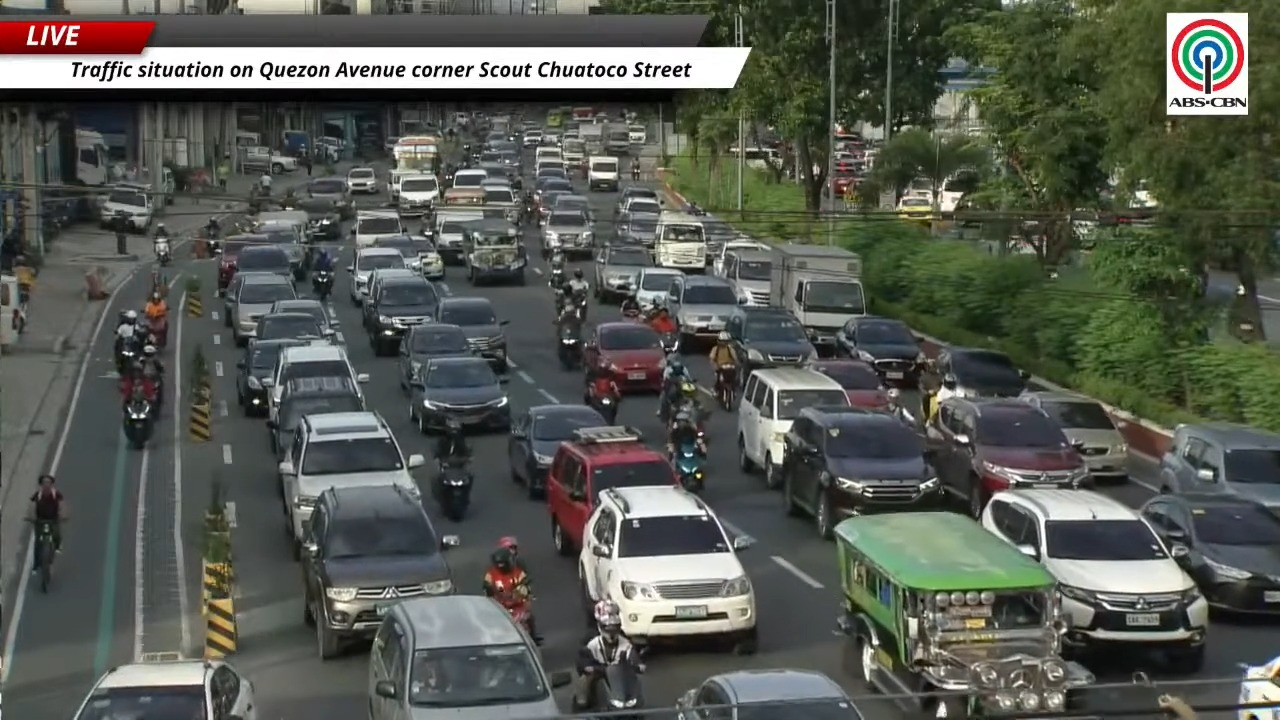car: (981, 488, 1208, 672), (579, 486, 756, 653), (302, 484, 458, 659), (367, 595, 572, 719), (780, 406, 943, 538), (277, 411, 424, 557), (927, 398, 1090, 517), (545, 426, 677, 555), (1140, 493, 1279, 614), (735, 367, 847, 488), (74, 659, 258, 719), (1160, 423, 1279, 508), (1020, 391, 1127, 480), (676, 669, 862, 719), (508, 404, 606, 498), (261, 341, 368, 418), (267, 378, 365, 461), (410, 357, 510, 433), (724, 307, 817, 381), (836, 316, 925, 386), (363, 275, 440, 355), (584, 321, 665, 391), (666, 275, 738, 350), (436, 296, 507, 372), (236, 339, 303, 415), (398, 323, 475, 389), (231, 273, 296, 345), (935, 348, 1029, 397), (253, 209, 309, 280), (811, 359, 888, 409), (361, 268, 421, 328), (431, 206, 483, 275), (592, 244, 653, 302), (347, 247, 405, 306), (99, 183, 159, 232), (718, 250, 771, 305), (230, 234, 292, 279), (1235, 656, 1279, 719), (222, 272, 271, 327), (269, 298, 339, 335), (252, 308, 330, 339), (542, 211, 593, 258), (374, 234, 432, 273), (712, 239, 771, 275), (350, 210, 406, 247), (216, 235, 249, 296), (296, 197, 342, 240), (306, 177, 353, 219), (636, 267, 682, 309), (397, 174, 441, 216), (702, 216, 739, 265), (483, 179, 520, 223), (614, 213, 657, 249), (535, 187, 573, 227), (614, 185, 660, 214), (551, 193, 594, 222), (478, 154, 509, 188), (534, 177, 572, 203), (346, 167, 381, 194), (896, 196, 933, 220), (622, 196, 661, 215), (451, 168, 488, 187), (534, 145, 562, 167), (535, 161, 568, 179), (627, 124, 646, 144), (523, 130, 542, 147)
motorcycle: (593, 662, 643, 719), (494, 587, 541, 644), (433, 458, 473, 521), (123, 393, 153, 449), (672, 442, 705, 492), (584, 383, 619, 424), (115, 338, 139, 375), (716, 366, 736, 410), (558, 332, 581, 370), (312, 270, 333, 301), (148, 316, 167, 347), (153, 236, 171, 265), (660, 331, 679, 355), (548, 267, 566, 290), (573, 291, 587, 319), (621, 307, 641, 322), (631, 165, 640, 181)
truck: (769, 244, 865, 355), (392, 136, 440, 174), (604, 124, 630, 155), (579, 124, 605, 155)
